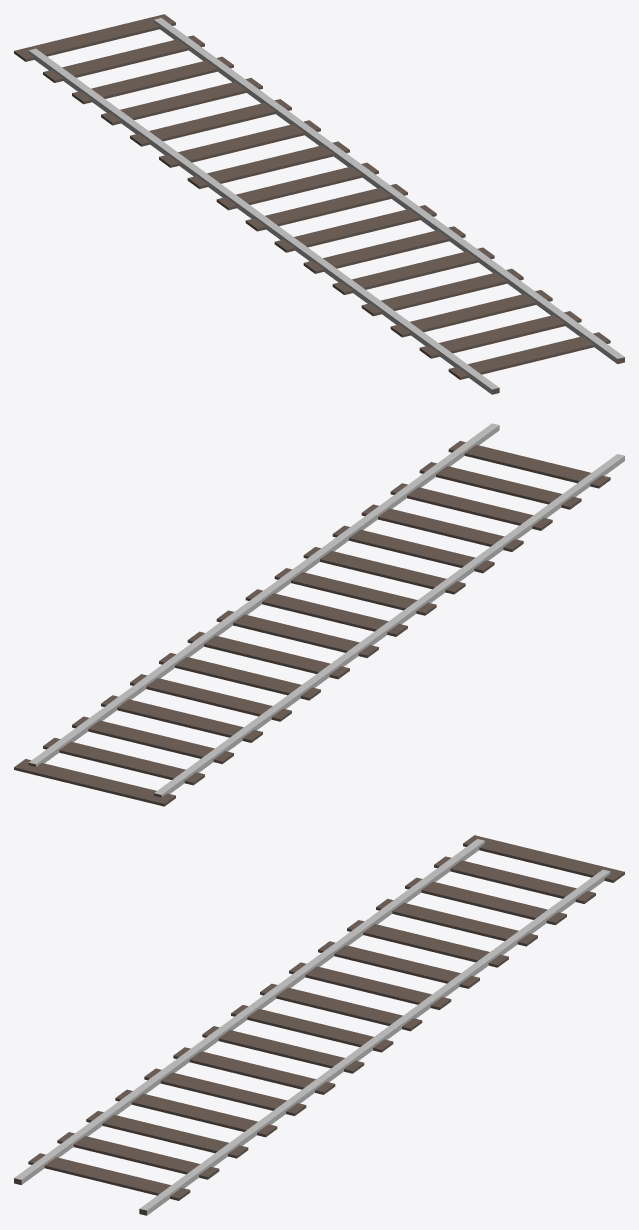
The model's file is rail.obj.
3 renders of one model, top to bottom at view 1: azimuth 30°, elevation 25°; view 2: azimuth 150°, elevation 25°; view 3: azimuth 330°, elevation 25°, orthographic.
Parts seen in each view (by area): view 1: Cube.017; view 2: Cube.017; view 3: Cube.017.
Part boxes in pixels (<box>): Cube.017: <box>14,14,624,394</box>; Cube.017: <box>14,423,624,806</box>; Cube.017: <box>14,835,624,1215</box>.
Size of the model in its own units: 3 by 0.1 by 16.2.
